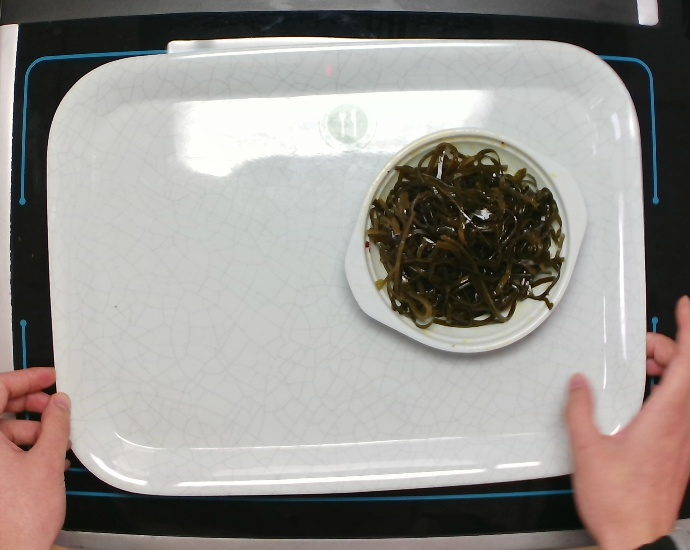JYsf-Shuang_Er_Pan: (341, 123, 594, 358)
